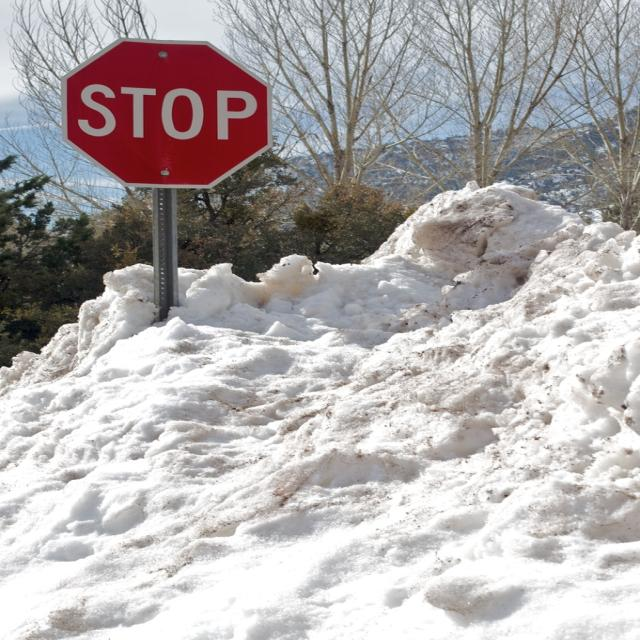Stop-sign: (59, 36, 275, 190)
